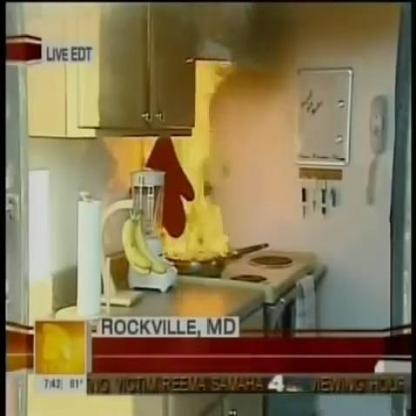fire: (152, 59, 247, 263)
